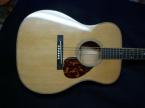guitar: (16, 9, 145, 95)
